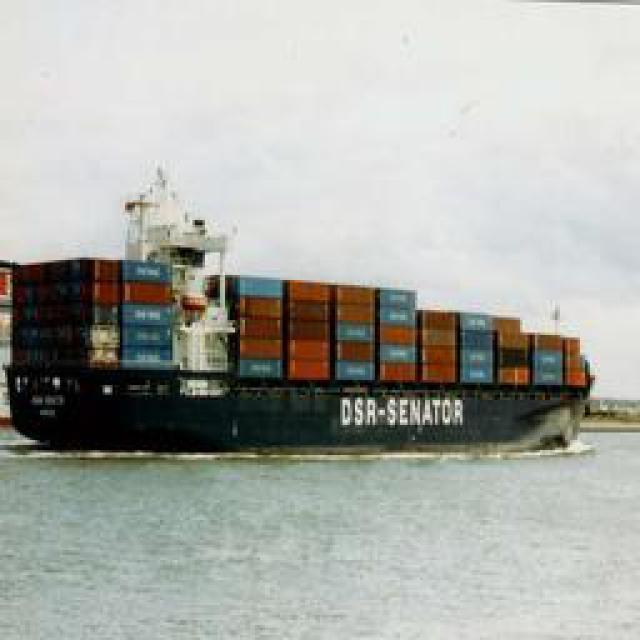Ship: (6, 163, 610, 472)
